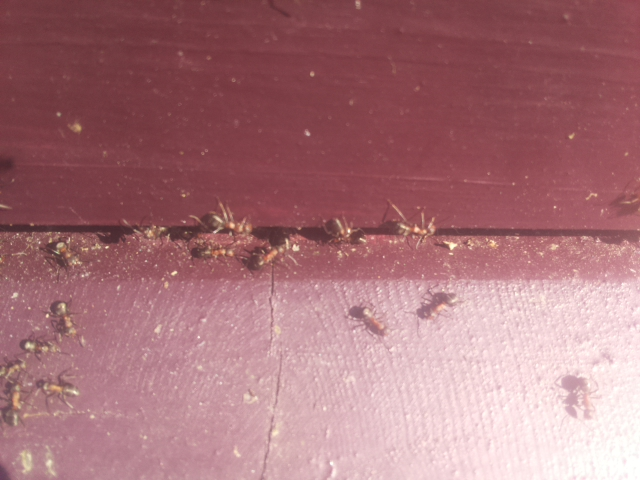ant: (556, 372, 602, 421), (343, 299, 389, 342), (319, 213, 370, 249), (198, 210, 259, 240), (47, 295, 82, 343), (415, 289, 464, 323), (40, 234, 85, 271), (31, 375, 83, 401), (6, 379, 28, 430), (391, 217, 437, 236), (16, 335, 58, 355), (188, 244, 232, 257)
